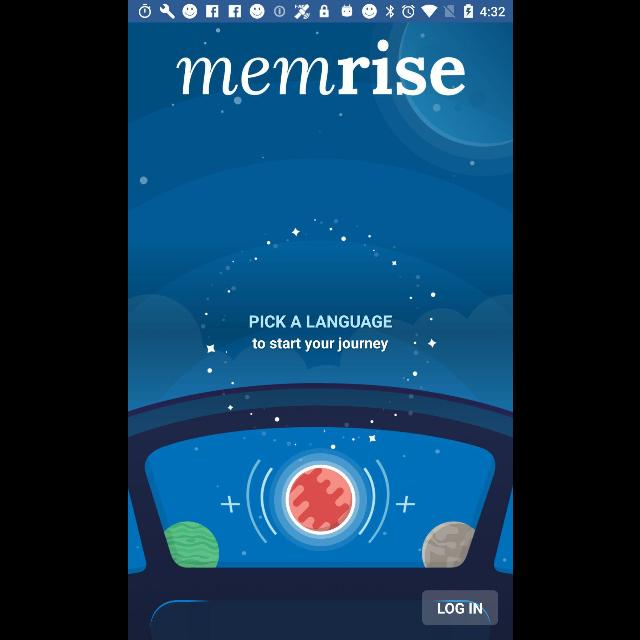backgroundimage: (128, 22, 512, 640)
text: (252, 337, 388, 353), (248, 316, 392, 328)
textbutton: (421, 590, 497, 626)
uppertaskbar: (128, 1, 512, 23)
